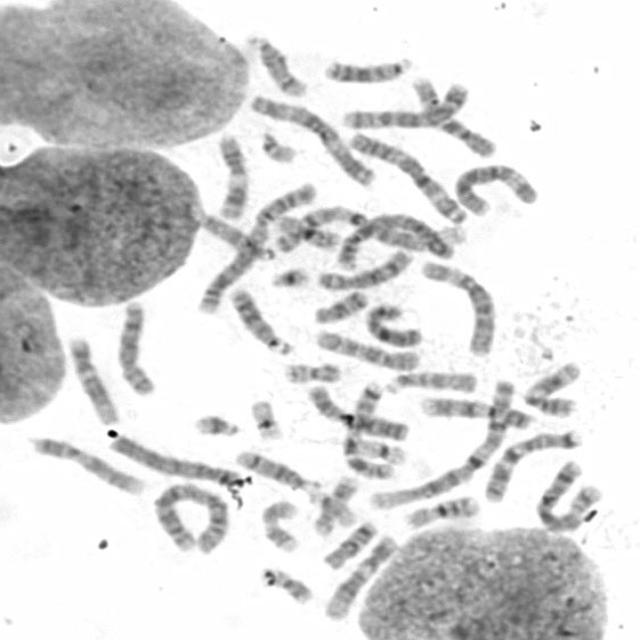A1: (362, 375, 520, 513), (265, 204, 463, 259)
A2: (192, 175, 320, 317), (148, 477, 234, 556)
A3: (243, 89, 379, 188), (342, 125, 470, 225)
B4: (328, 208, 463, 272), (104, 431, 244, 488)
B5: (336, 77, 472, 130), (532, 455, 608, 534)
C10: (405, 71, 501, 159), (308, 323, 421, 372)
C11: (518, 356, 584, 418), (211, 129, 251, 221)
C12: (318, 530, 399, 622), (64, 330, 122, 426)
C6: (418, 255, 498, 357), (448, 158, 541, 218)
C7: (480, 423, 588, 505), (338, 378, 399, 482)
C8: (312, 244, 416, 292), (110, 295, 158, 397)
C9: (26, 431, 147, 497), (415, 391, 536, 431)
D13: (223, 281, 296, 356), (318, 50, 416, 84)
D14: (240, 29, 310, 98), (232, 445, 324, 494)
D15: (195, 209, 278, 262), (379, 364, 480, 397)
E16: (400, 490, 482, 530), (270, 211, 344, 252)
E17: (308, 472, 361, 537), (256, 495, 304, 554)
E18: (317, 515, 380, 570), (309, 284, 371, 324)
F19: (347, 433, 408, 467), (244, 394, 286, 442)
F20: (255, 564, 315, 606), (278, 356, 344, 386)
G21: (188, 408, 243, 439), (264, 260, 312, 290)
G22: (306, 490, 364, 528), (256, 126, 300, 164)
X: (302, 380, 413, 442), (360, 298, 424, 348)
